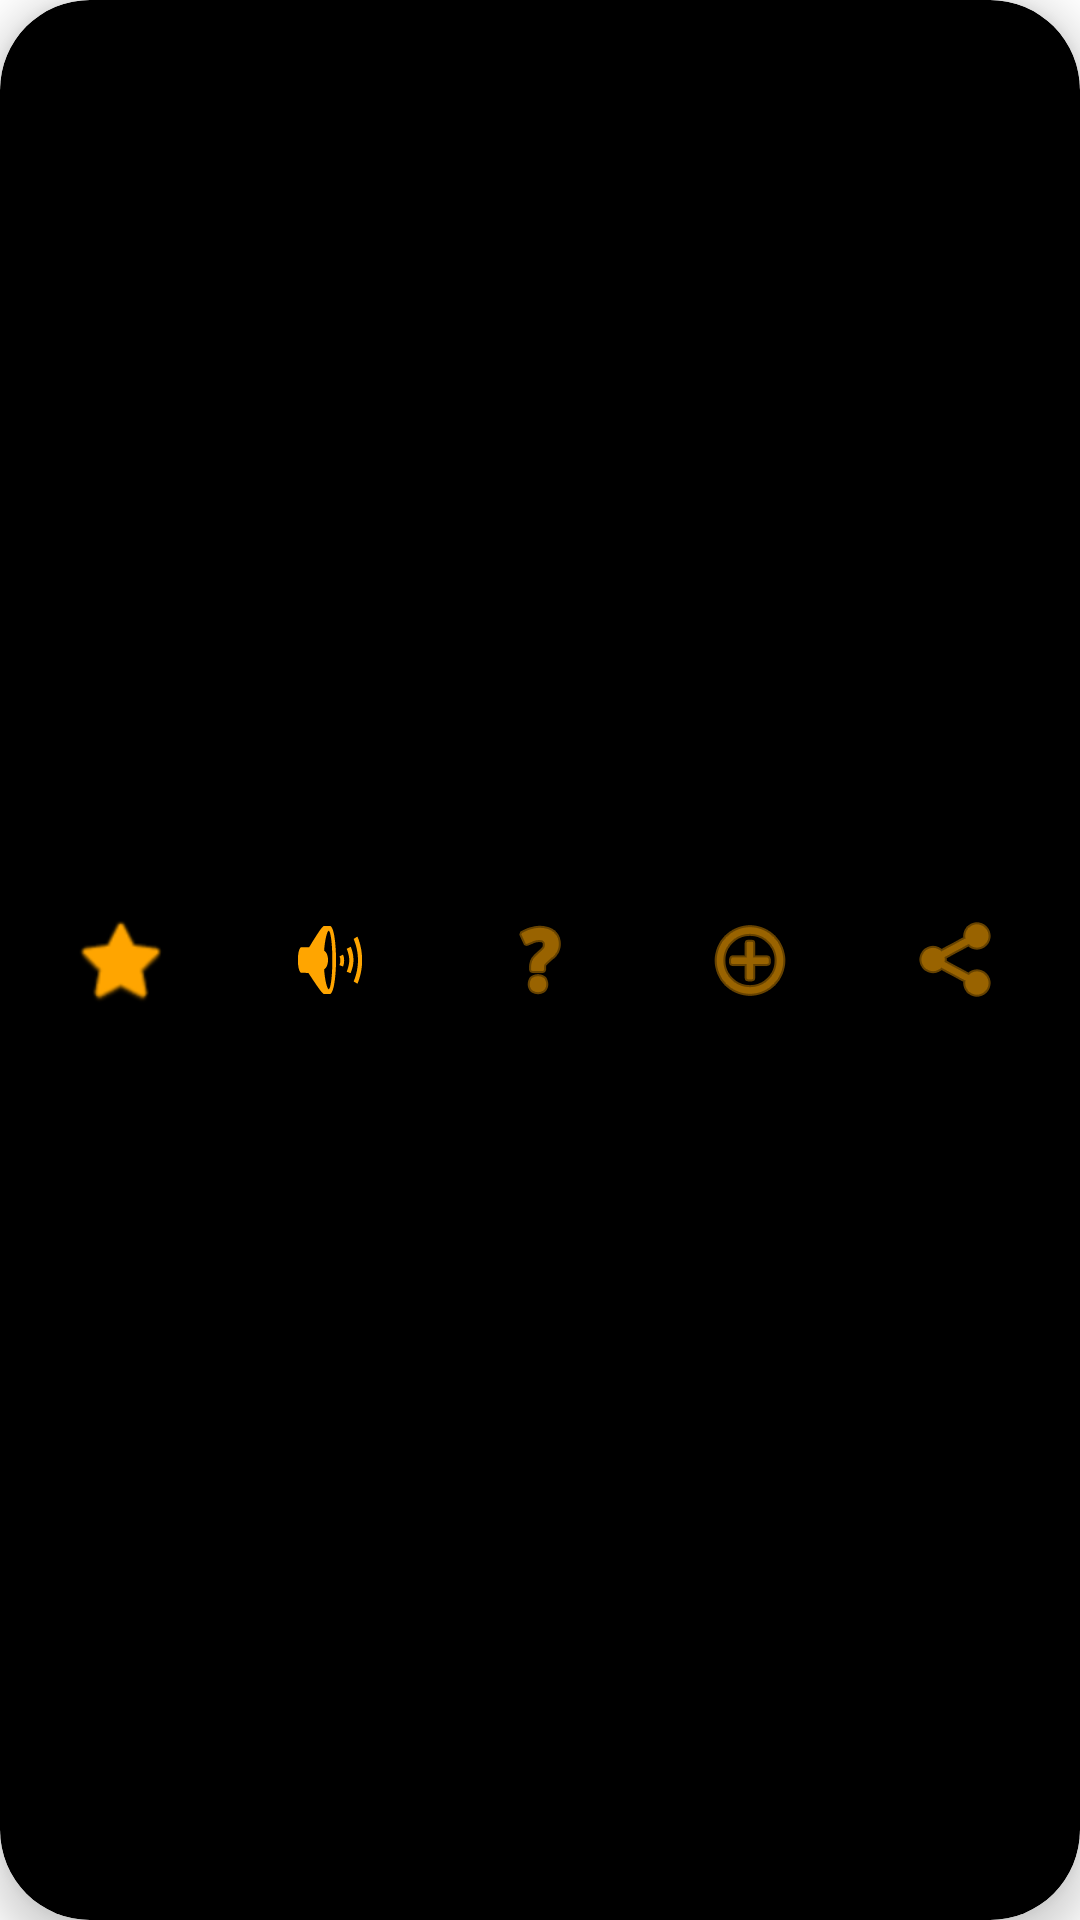

Named icons in this screenshot (1080 × 1920) and their centers, (x,y):
add: (750,960)
help: (540,960)
lock silent mode off: (330,960)
share: (955,959)
star on: (121,961)
